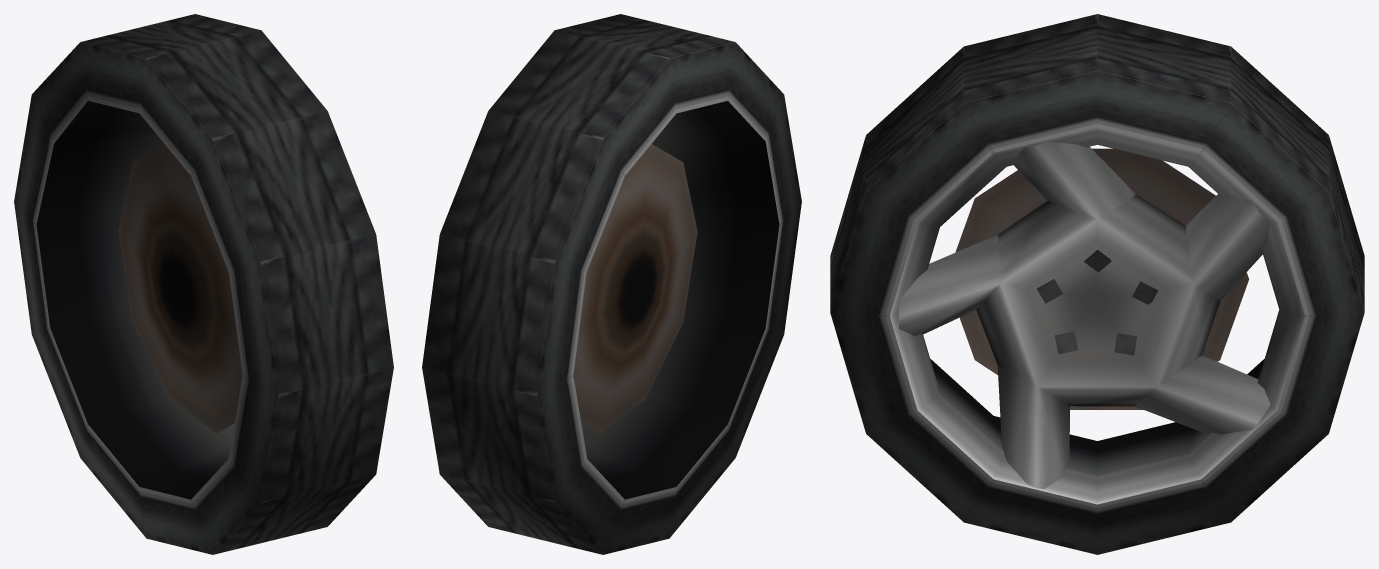
The model's file is wheel_gn3.glb.
The picture shows the model from 3 angles, left to right: view 1: azimuth 30°, elevation 25°; view 2: azimuth 150°, elevation 25°; view 3: azimuth 270°, elevation 25°; orthographic projection.
Visible parts, largest first — view 1: wheel_gn3; view 2: wheel_gn3; view 3: wheel_gn3.
Part boxes in pixels (bbox=[...]): wheel_gn3: bbox=[14, 14, 393, 554]; wheel_gn3: bbox=[422, 14, 801, 554]; wheel_gn3: bbox=[830, 14, 1364, 554].
Bounding box in the file's own units: 0.2816 × 0.9842 × 0.9842.
Materials: 3 (3 with a texture image).
